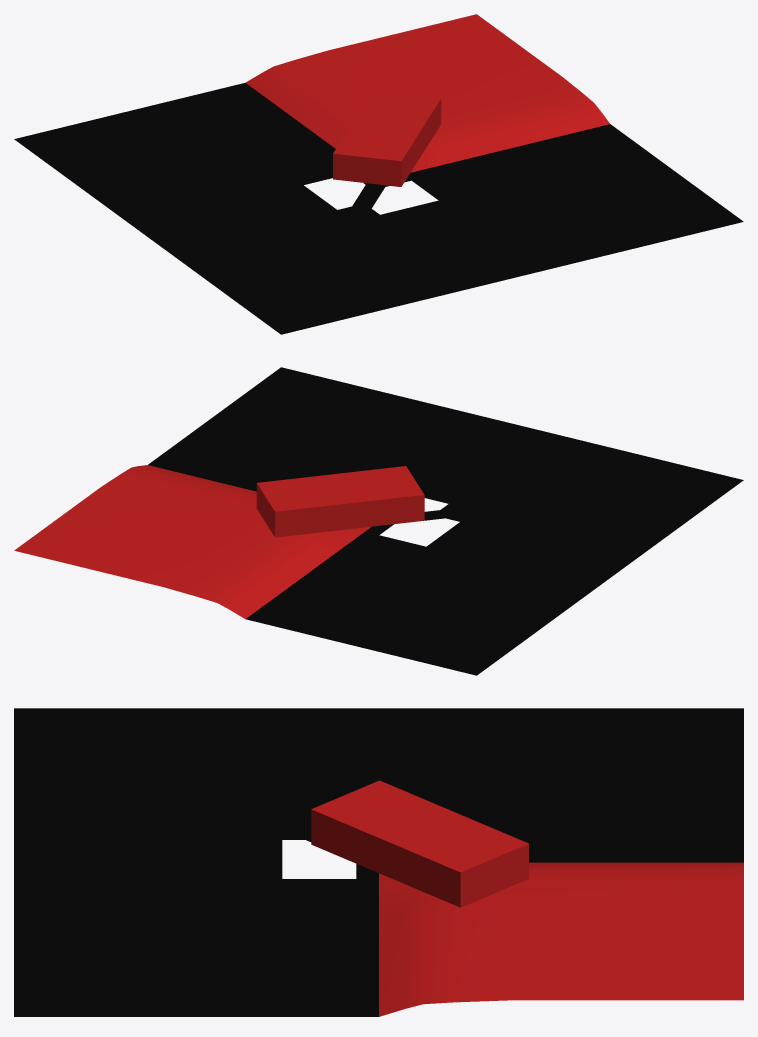
Rendered from sidewalk corn out collider.FBX.
3 views of the same model, one above another, from view 1: azimuth 30°, elevation 25°; view 2: azimuth 150°, elevation 25°; view 3: azimuth 270°, elevation 25° (orthographic). The views are drawn at different scales.
Parts seen in each view (by area): view 1: Object028; view 2: Object028; view 3: Object028.
Part boxes in pixels (box(x1,y1,x2,y2)): Object028: box(14, 14, 743, 334); Object028: box(14, 367, 743, 675); Object028: box(14, 708, 743, 1016).
Size of the model in its own units: 3 by 0.2599 by 3.
